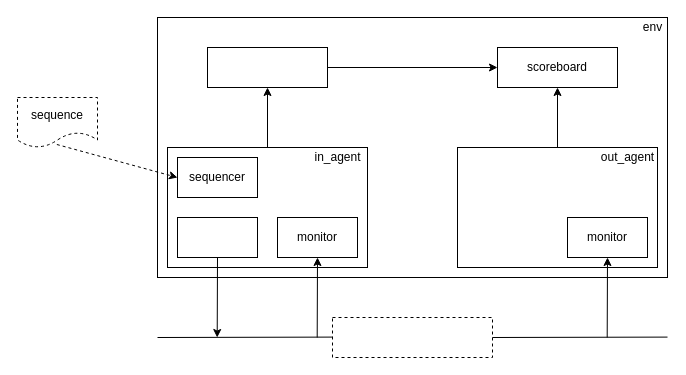
Image size: 686x375. Some labels were removed from this diagram. The centre of each missing label's shape, as x and y in pixels:
"driver" belongs at pixel 217 237.
"DUT" belongs at pixel 412 337.
"reference model" belongs at pixel 267 67.
